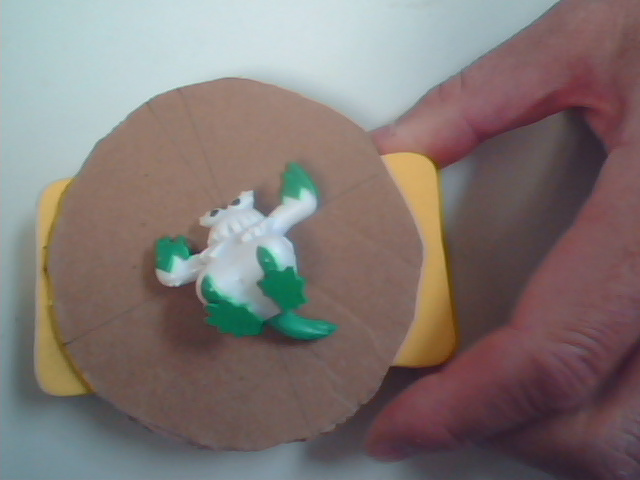abomasnow: (142, 125, 374, 351)
